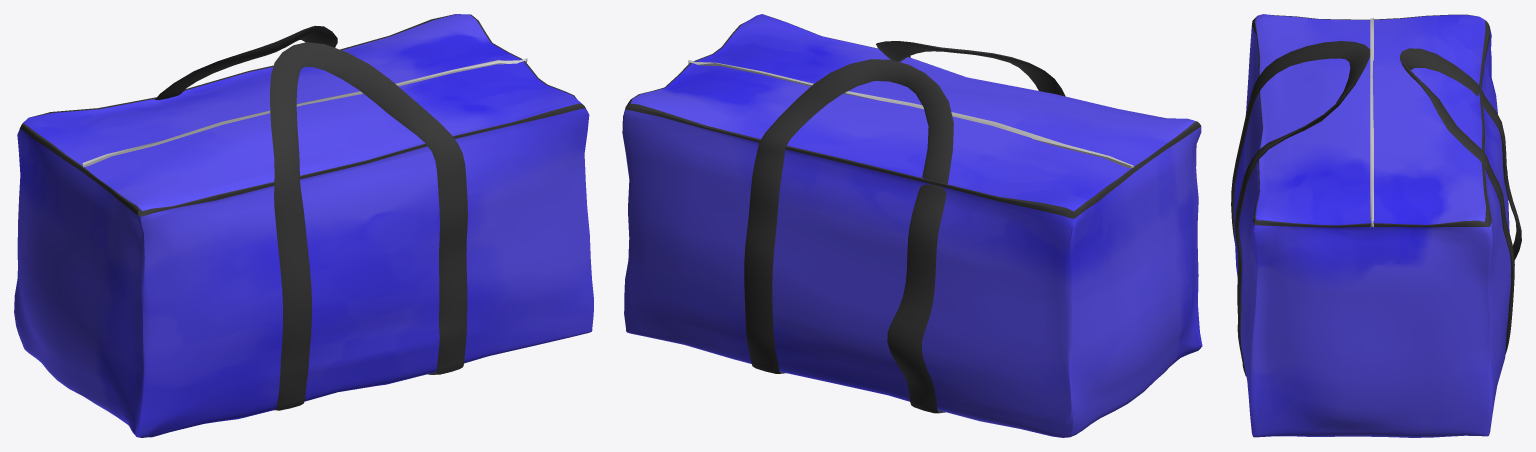
Rendered from carrying_bag.fbx.
3 views of the same model, side by side, from view 1: azimuth 30°, elevation 25°; view 2: azimuth 150°, elevation 25°; view 3: azimuth 270°, elevation 25° (orthographic). The views are drawn at different scales.
Visible parts, largest first — view 1: Cube, Cube.001, Cube.002; view 2: Cube, Cube.001, Cube.002; view 3: Cube, Cube.001, Cube.002.
Part boxes in pixels (left/top/right/bottom): Cube: left=14, top=14, right=593, bottom=437; Cube.001: left=155, top=25, right=467, bottom=410; Cube.002: left=82, top=58, right=527, bottom=167; Cube: left=622, top=14, right=1202, bottom=437; Cube.001: left=744, top=41, right=1065, bottom=413; Cube.002: left=688, top=60, right=1134, bottom=168; Cube: left=1234, top=14, right=1510, bottom=437; Cube.001: left=1231, top=41, right=1521, bottom=376; Cube.002: left=1370, top=18, right=1373, bottom=227.
Size of the model in its own units: 4.32 by 2.65 by 2.42.
3 materials, 1 textured.
